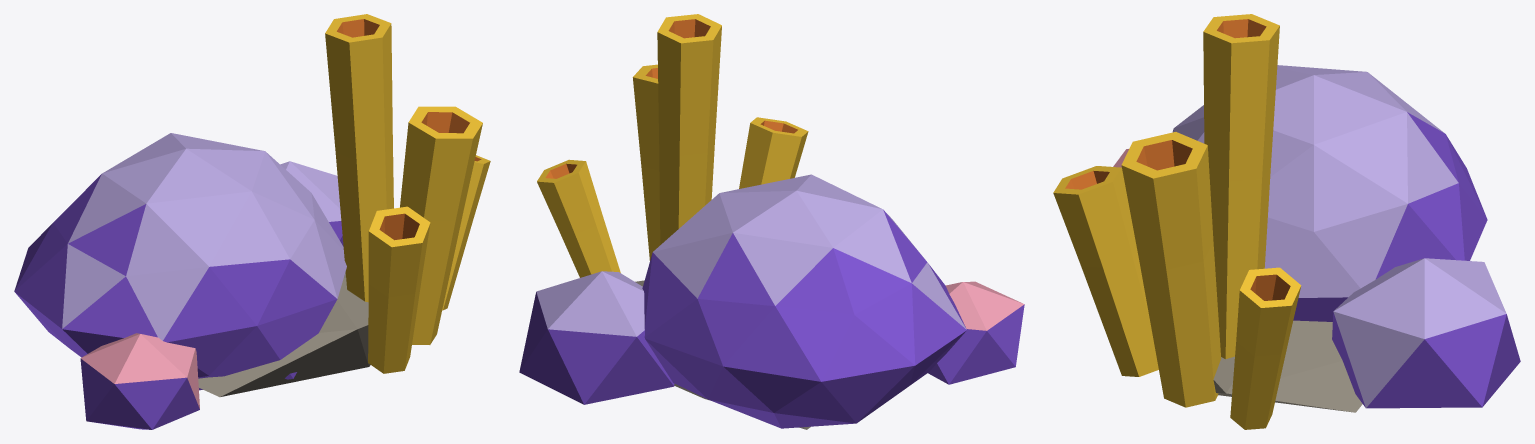
Rendered from coral_b.glb.
3 views of the same model, side by side, from view 1: azimuth 30°, elevation 25°; view 2: azimuth 150°, elevation 25°; view 3: azimuth 270°, elevation 25° (orthographic). The views are drawn at different scales.
Visible parts, largest first — view 1: coral_b; view 2: coral_b; view 3: coral_b.
Boxes of the visible parts, x1=… form: coral_b: x1=14, y1=14, x2=490, y2=429; coral_b: x1=519, y1=14, x2=1024, y2=429; coral_b: x1=1053, y1=14, x2=1520, y2=429.
Size of the model in its own units: 1.23 by 0.8612 by 0.971.
